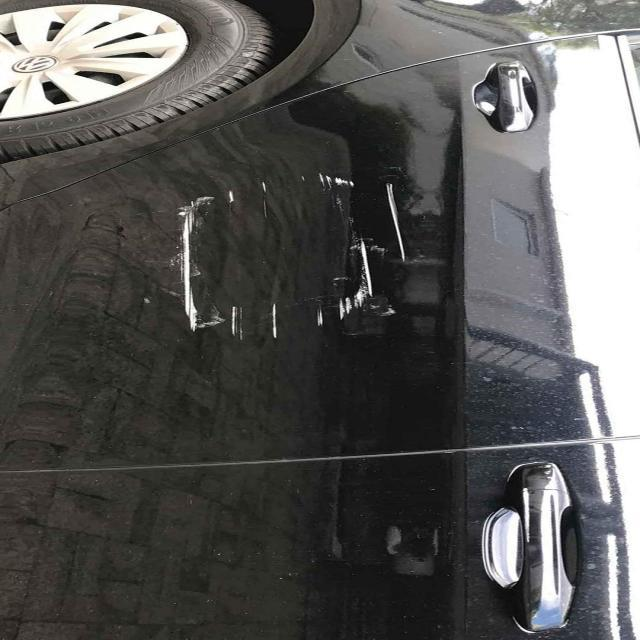scratch: (163, 190, 252, 340), (296, 270, 386, 347), (374, 176, 429, 280)
